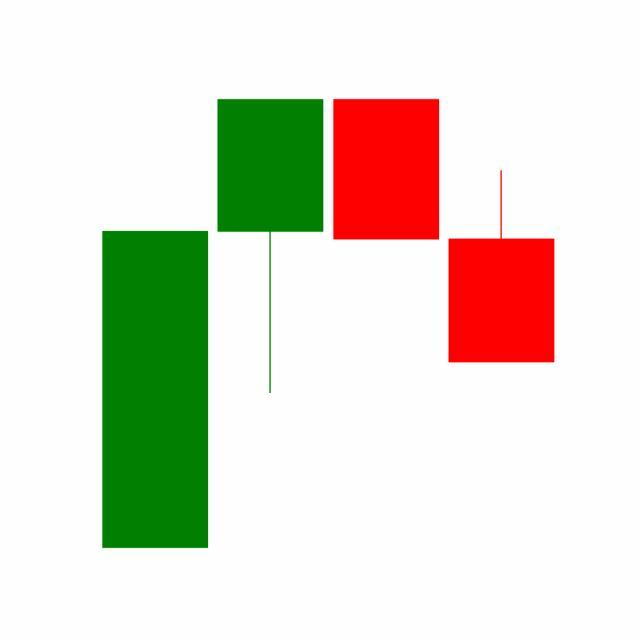Marubozu: (329, 98, 445, 242)
